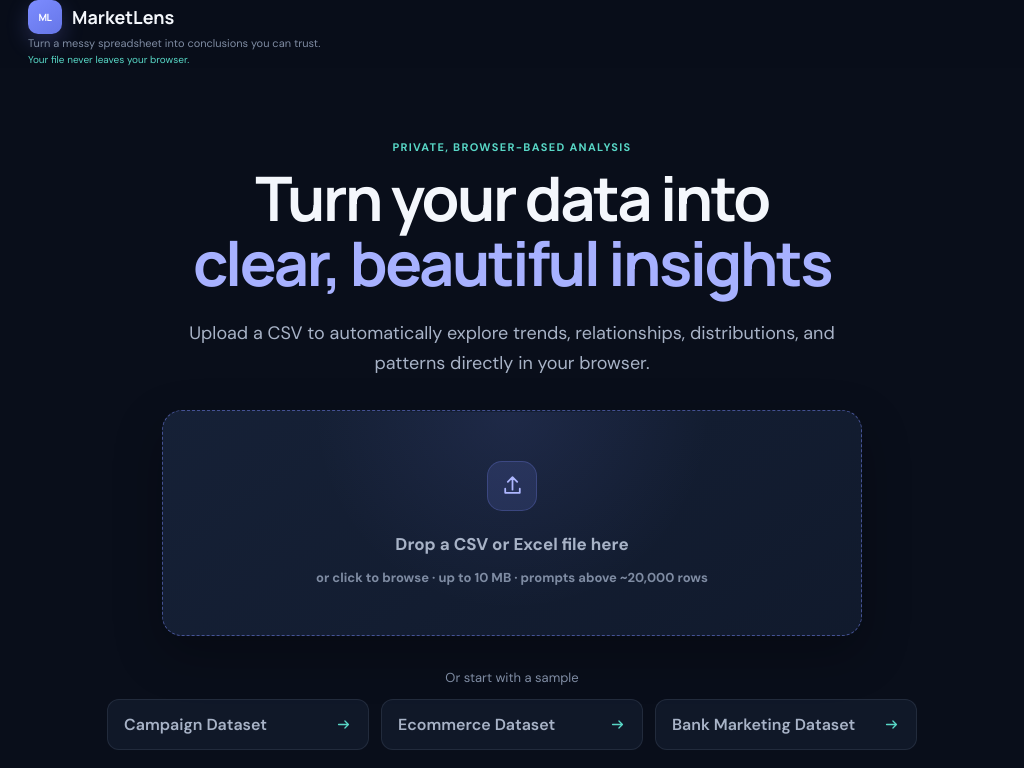
Test: starts dated datasets with a valid line chart configuration
The width and height of the screenshot is (1024, 768).
Click the button "Campaign Dataset".
click(238, 725)  # box [107, 699, 369, 750]
(page scrolled)
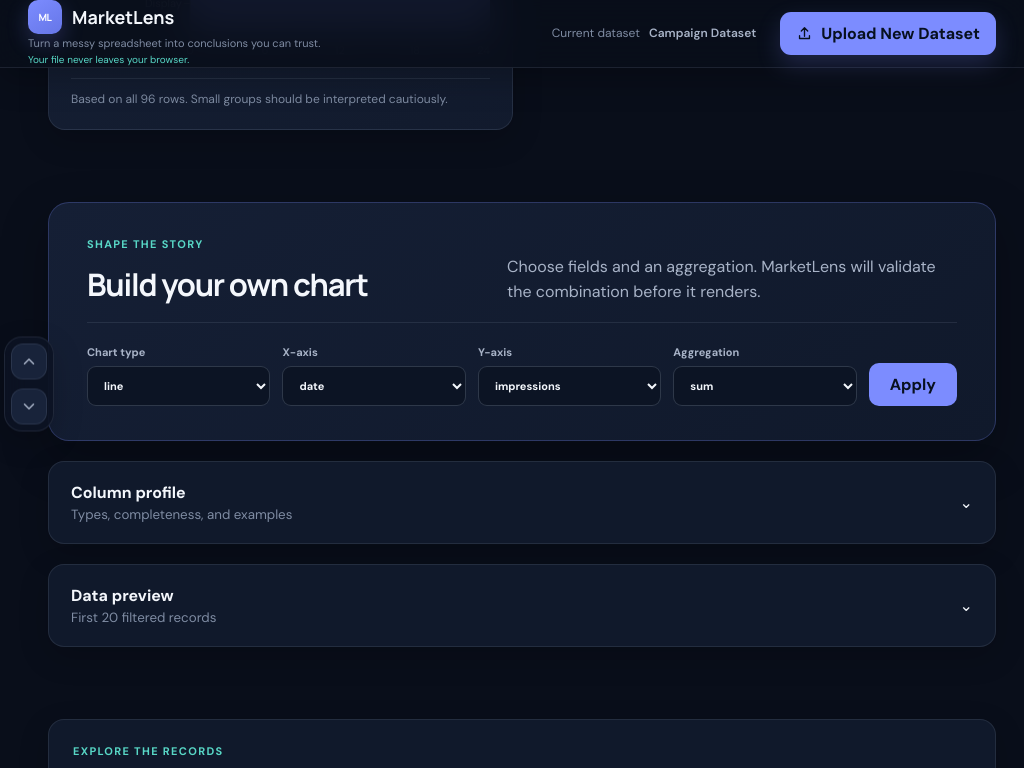
Now the dropdown labelled "Chart type" shows "line", box [87, 366, 270, 406]
Now the dropdown labelled "X-axis" shows "date", box [282, 366, 466, 406]
Now the dropdown labelled "Y-axis" shows "impressions", box [478, 366, 661, 406]
